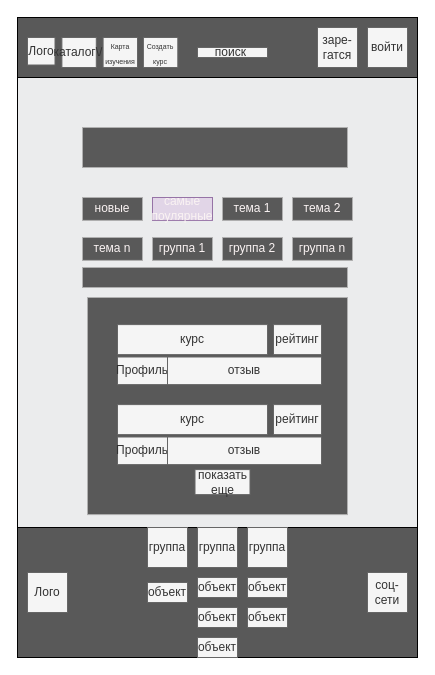
Some shapes in this 435 by 675 pixel diagram are drawn without their labels. The centre of each missing label's shape, as x and y in pixels:
Инфа о сортировке отзывов: (215,147)
поисковая строка: (215,277)
